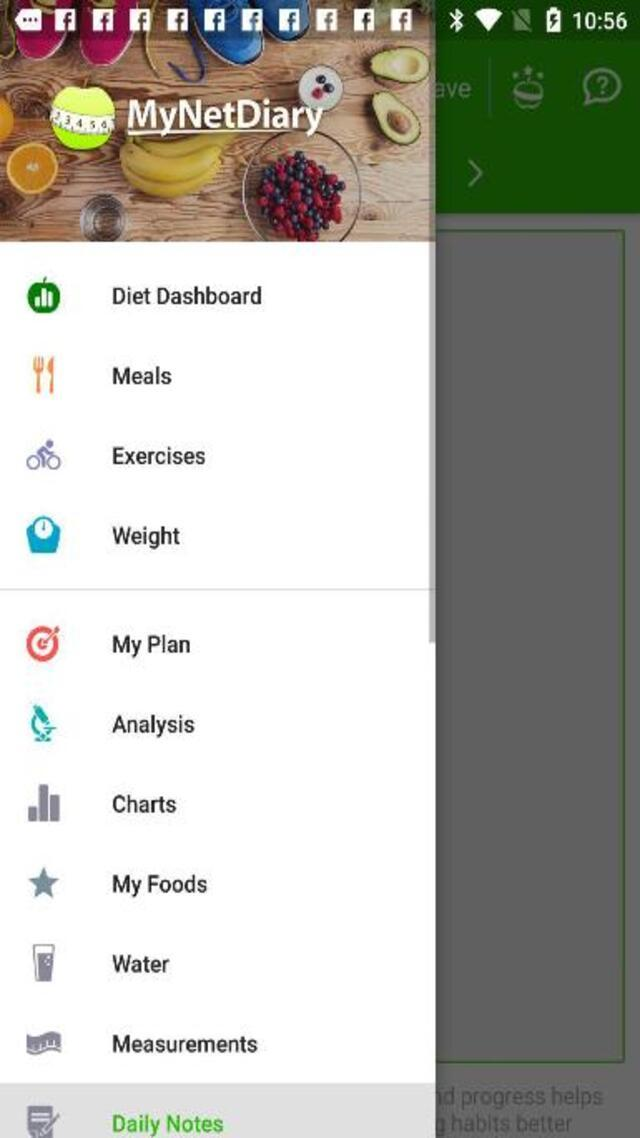Icon: (26, 516, 60, 554), (26, 276, 60, 314), (26, 625, 60, 662), (27, 784, 59, 820), (26, 1104, 60, 1136), (26, 440, 60, 470), (29, 705, 56, 742), (28, 866, 58, 898), (32, 354, 54, 396), (26, 1032, 60, 1056), (32, 944, 54, 980)
Image: (1, 40, 435, 241), (126, 96, 322, 135)
Text: (111, 284, 261, 306), (112, 1032, 257, 1052), (112, 1112, 225, 1136), (111, 870, 208, 897), (112, 713, 195, 738), (112, 633, 190, 658), (110, 445, 206, 465), (110, 526, 180, 548), (112, 793, 177, 814), (112, 363, 172, 384), (110, 953, 170, 974)
